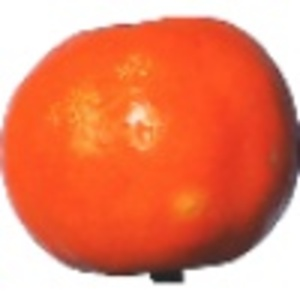tangerina: (2, 1, 300, 282)
